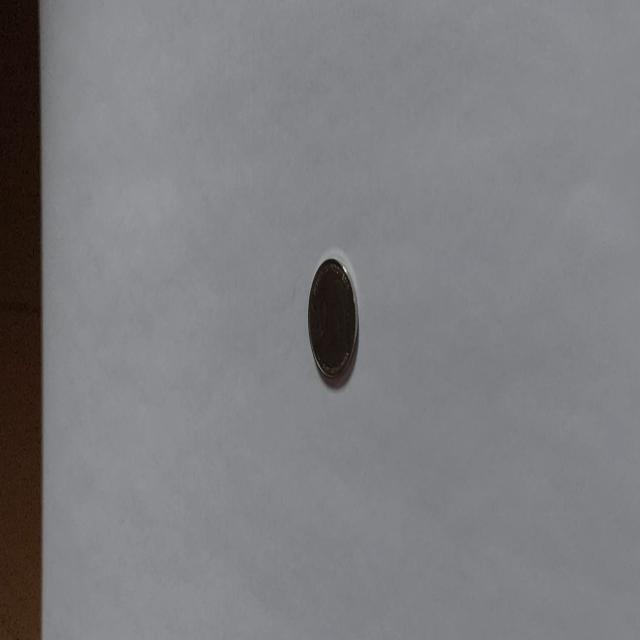seribu rupiah koin: (306, 253, 359, 386)
